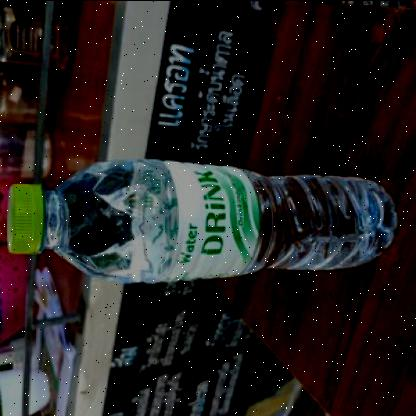Plastic Bottle: (7, 158, 398, 282)
